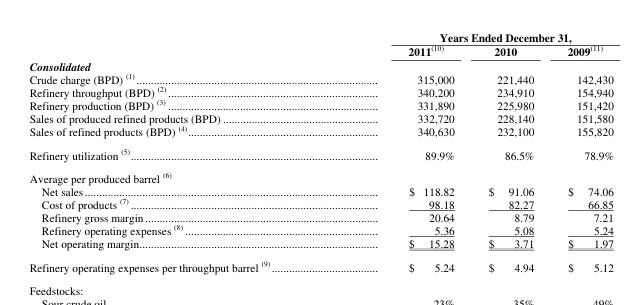table: (28, 28, 612, 273)
table column: (28, 28, 338, 273), (338, 28, 470, 273), (470, 28, 550, 273), (550, 28, 612, 273)
table column header: (28, 28, 612, 59)
table projected row header: (28, 165, 612, 184), (28, 59, 612, 72)
table row: (28, 142, 612, 165), (28, 253, 612, 273), (28, 123, 612, 142), (28, 165, 612, 184), (28, 236, 612, 253), (28, 43, 612, 59), (28, 28, 612, 43), (28, 97, 612, 111), (28, 196, 612, 210), (28, 222, 612, 236), (28, 59, 612, 72), (28, 84, 612, 97), (28, 72, 612, 84), (28, 111, 612, 123), (28, 184, 612, 196), (28, 210, 612, 222)
table spanning cell: (338, 28, 612, 43)
